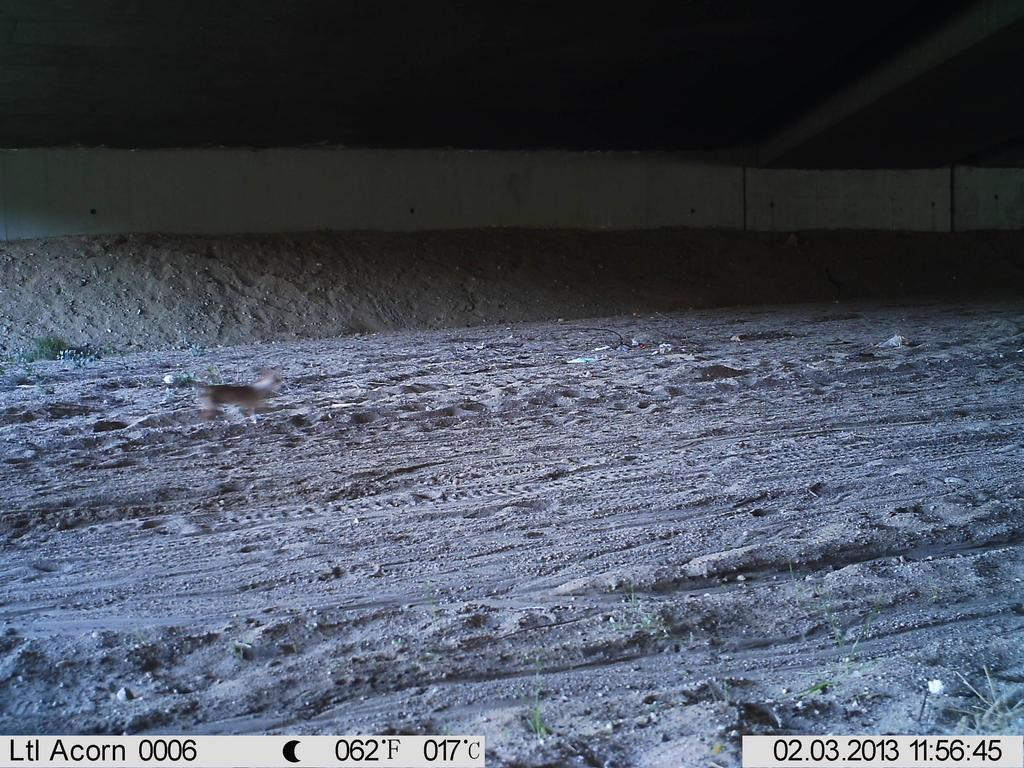dog: (176, 372, 291, 437)
